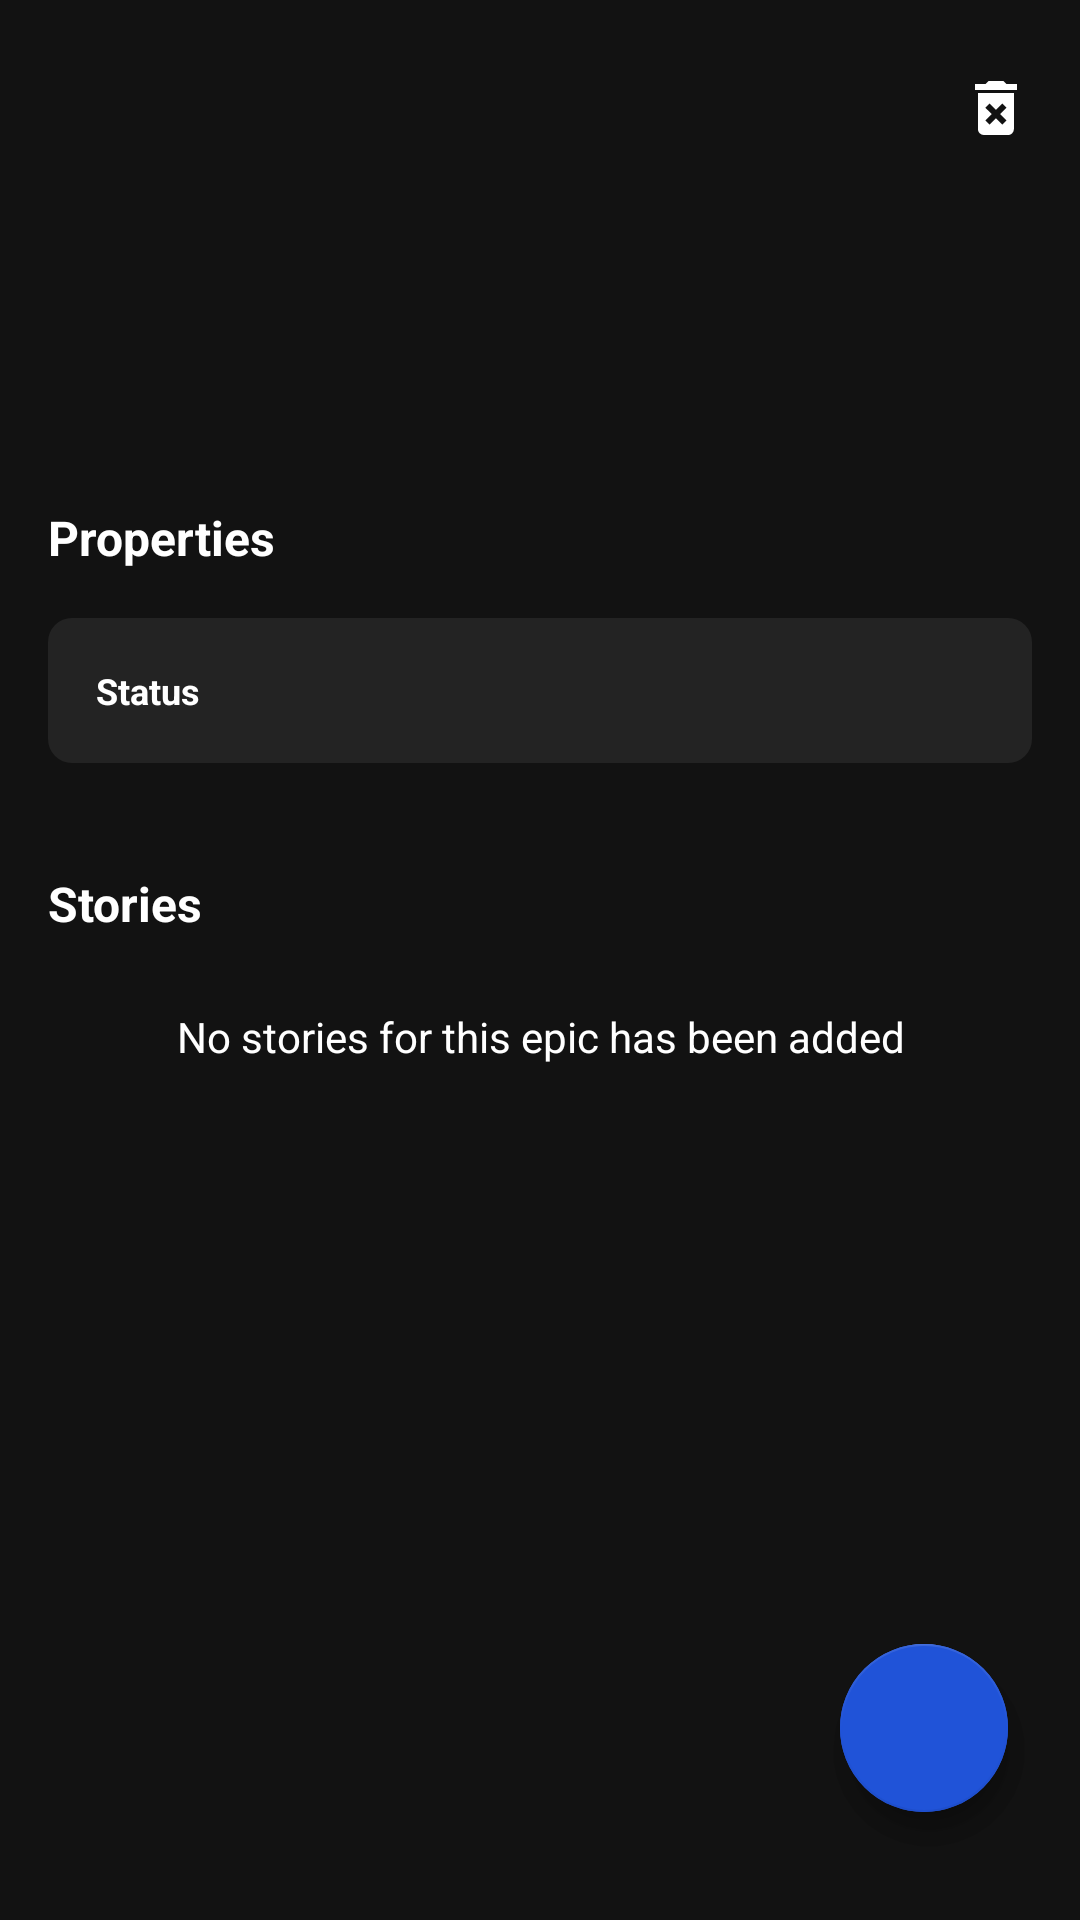

Where to tap for icons on this 1080*1920 app screen, as [x,y]:
Delete epic: [996,108]
